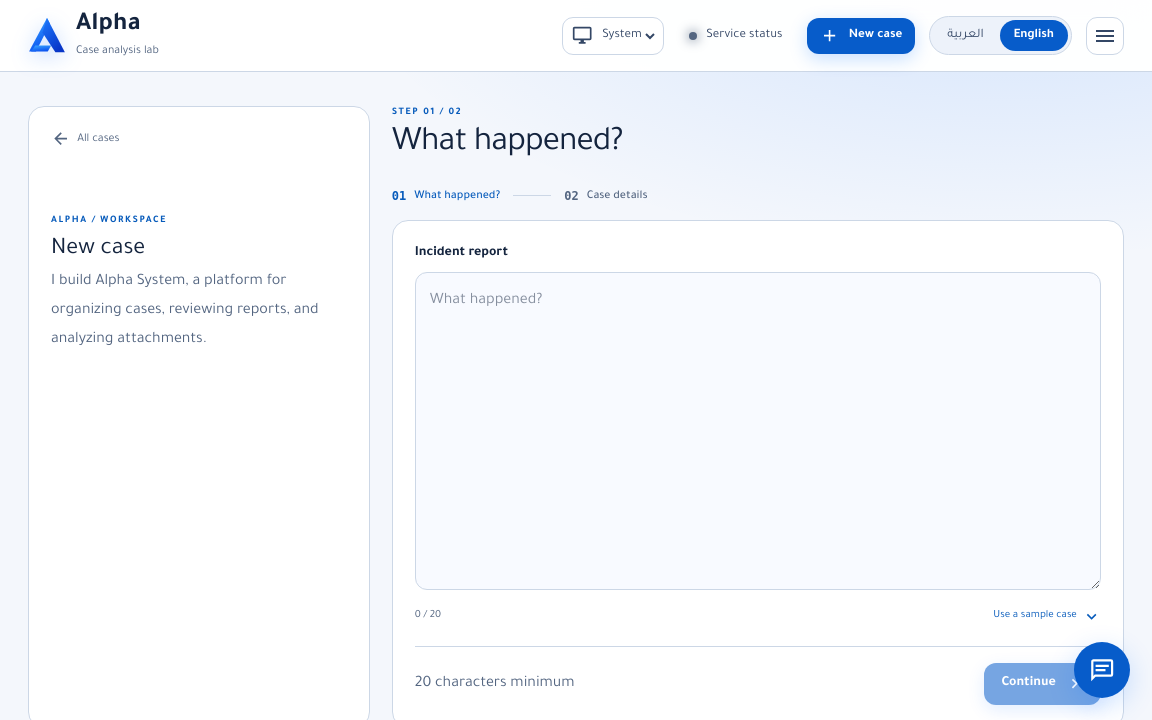
Test: application shell › asks before leaving a new case with unsaved text
Type "A detailed incident report that has not been saved." into the text box labelled "Incident report" at (758, 431), box 415,272 -> 1101,590
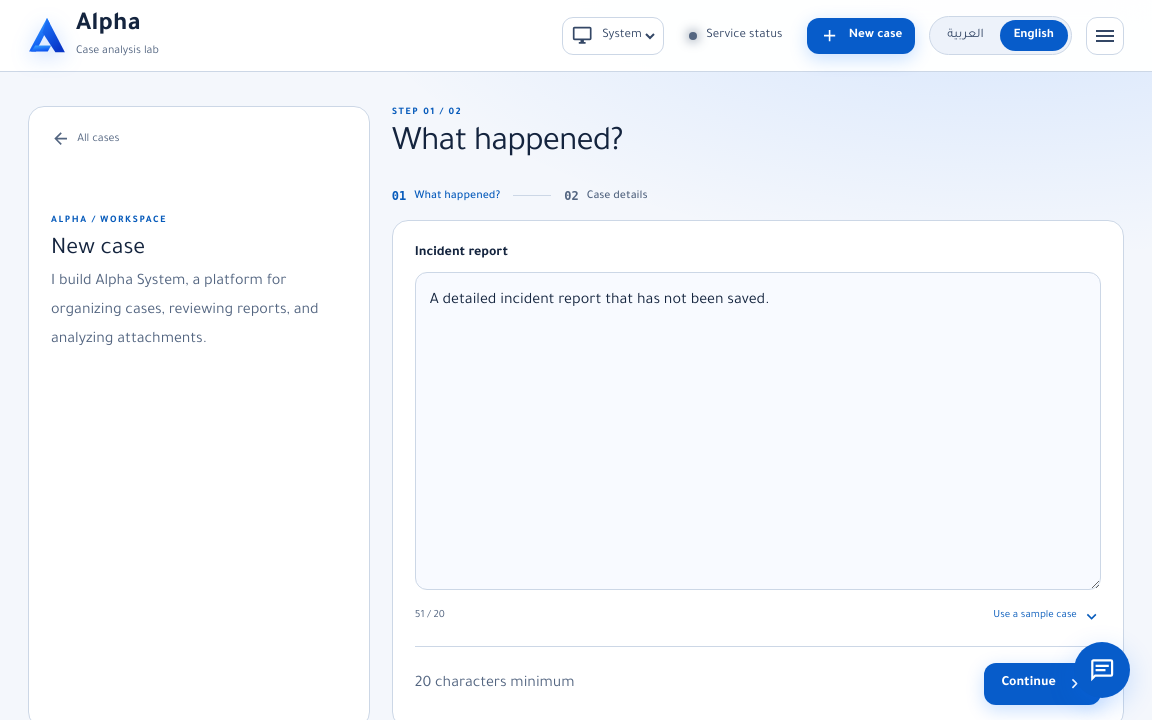
Click the link "Alpha Case analysis lab" at (93, 34), box 28,12 -> 159,56
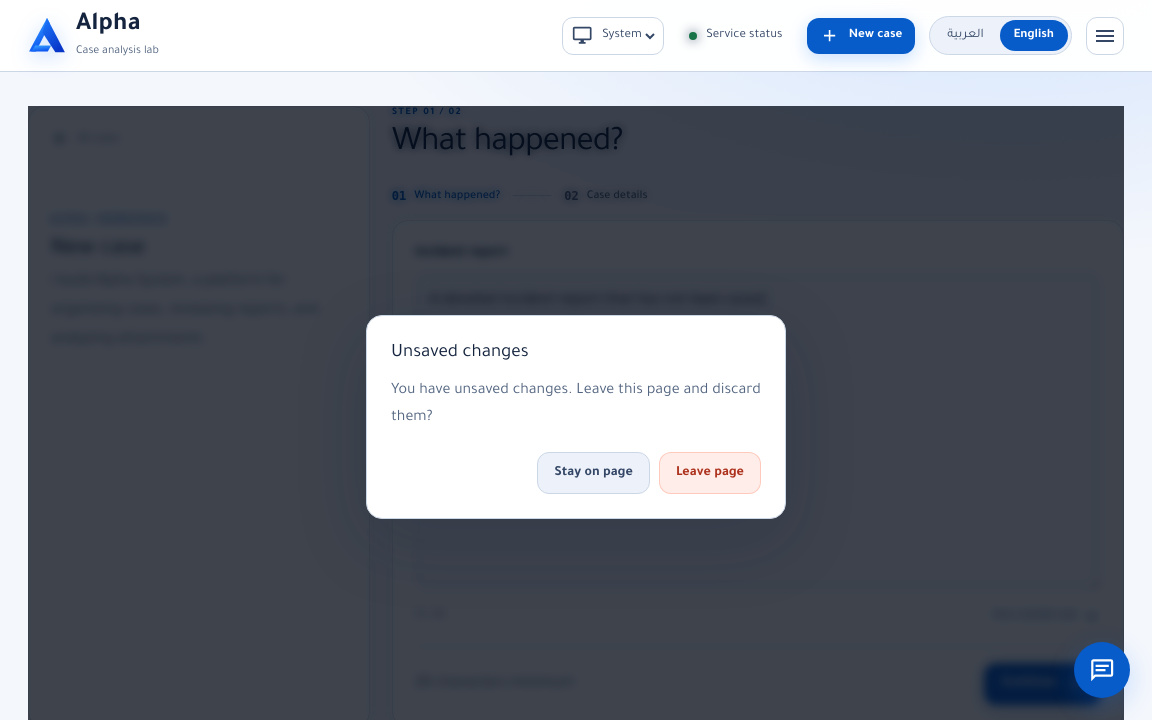
Check: the dialog "Unsaved changes" is shown, box 366,314 -> 786,519
Click the button "Stay on page" at (594, 473), box 537,452 -> 650,494
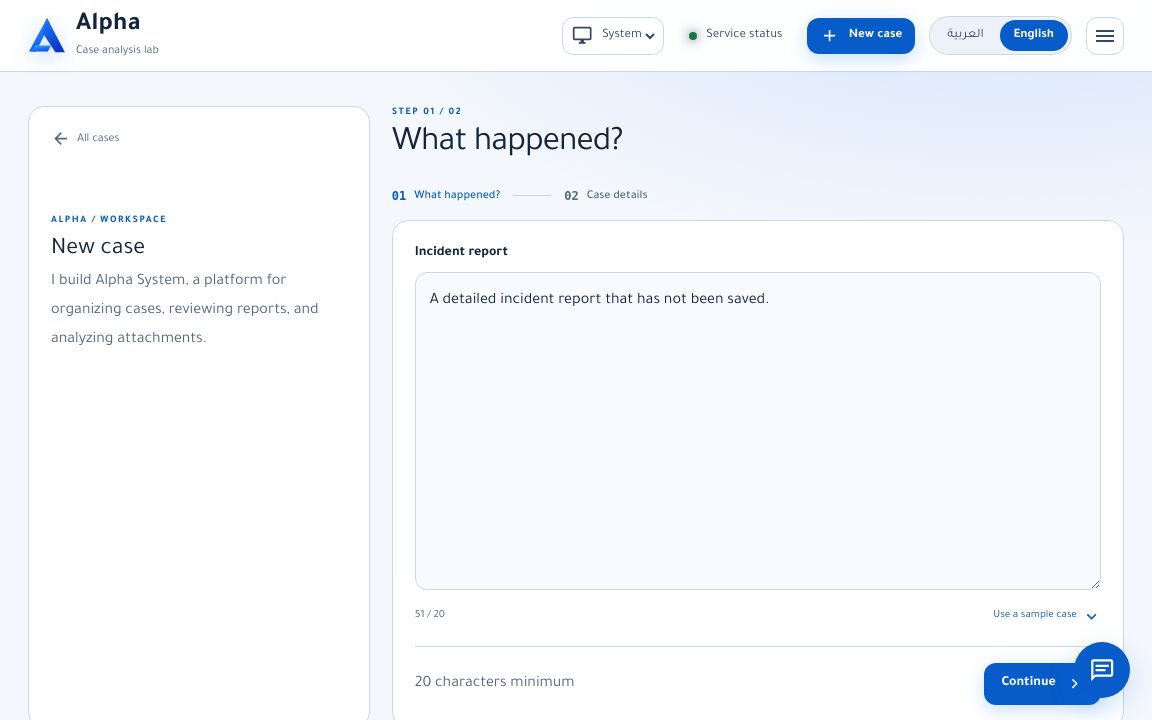
Click the link "Alpha Case analysis lab" at (93, 34), box 28,12 -> 159,56
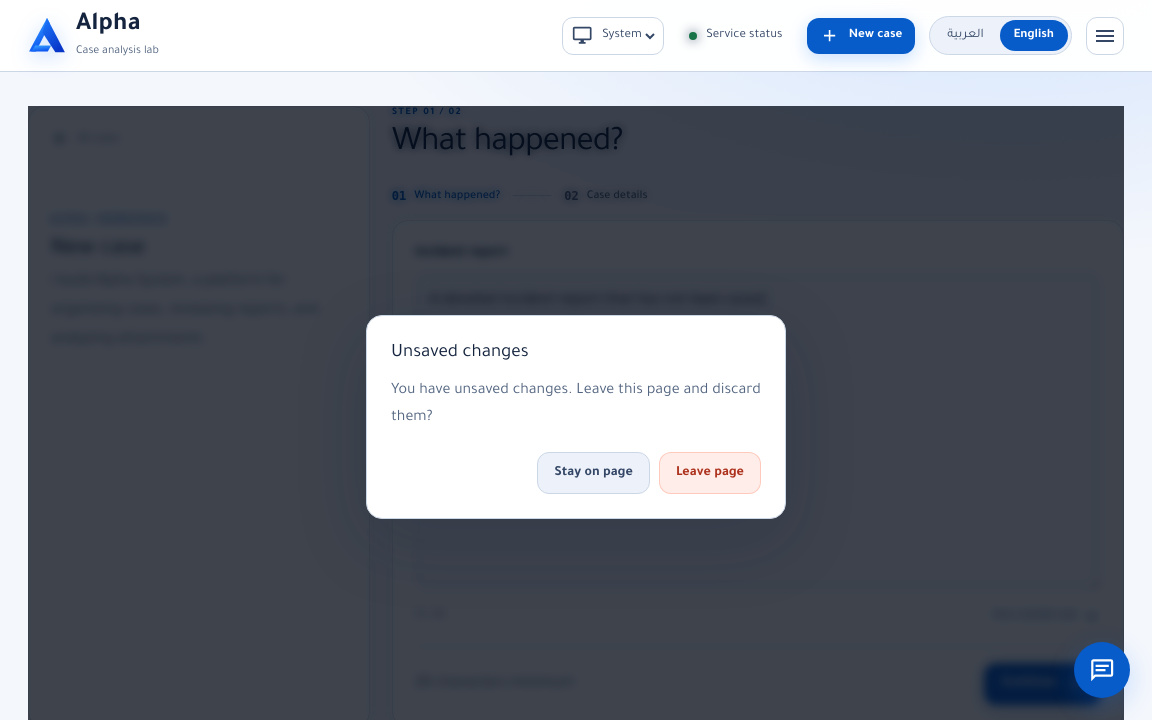
Click the button "Leave page" at (710, 473), box 659,452 -> 761,494
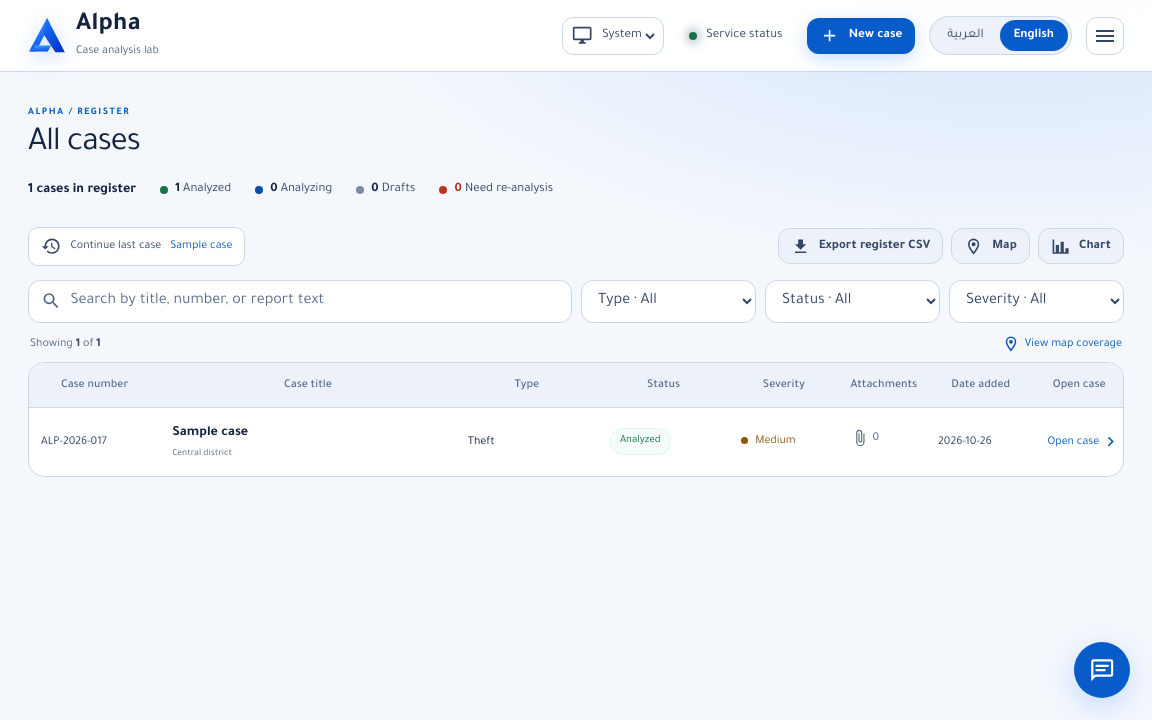
Check: the heading "All cases" is shown, box 28,124 -> 140,164
